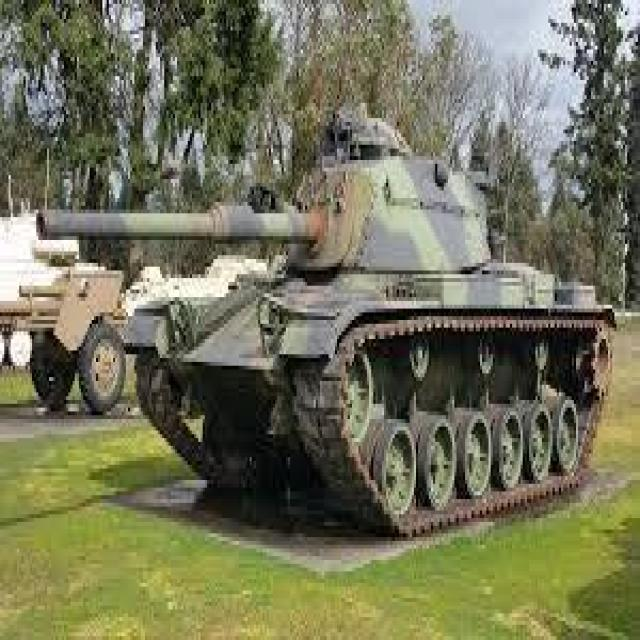Tanks: (136, 170, 609, 535)
